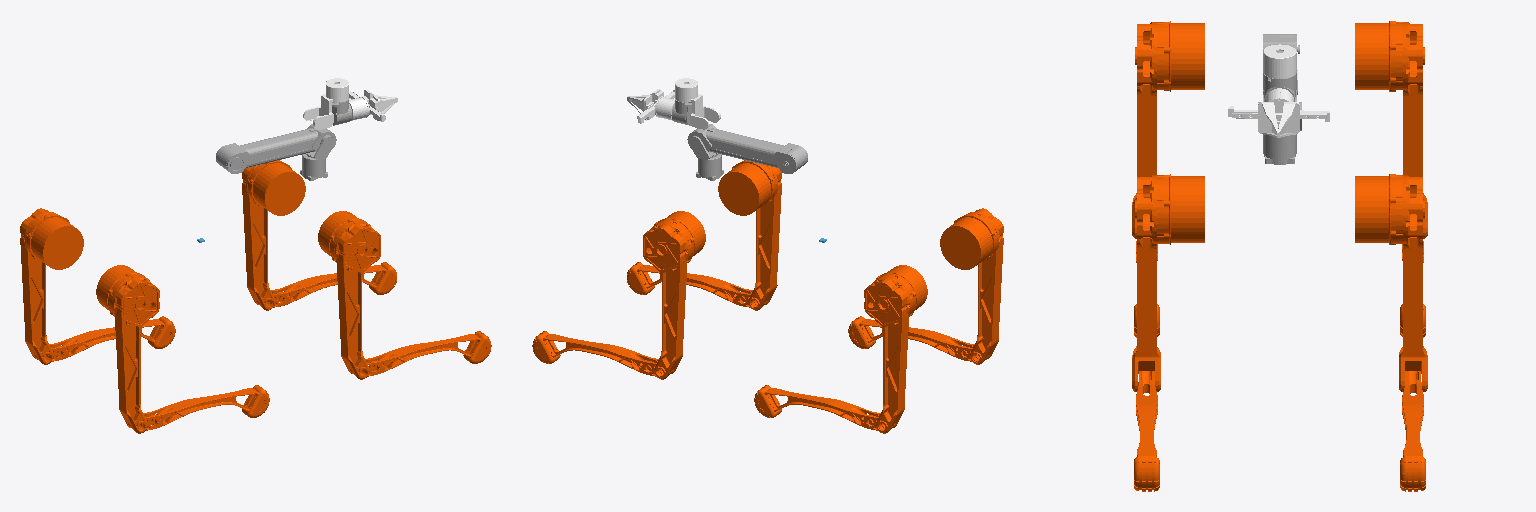
URDF robot description (robot):
<?xml version="1.0" ?>
<robot name="robot">
  <material name="black">
    <color rgba="0.0 0.0 0.0 1.0"/>
  </material>
  <material name="blue">
    <color rgba="0.0 0.0 0.8 1.0"/>
  </material>
  <material name="green">
    <color rgba="0.0 0.8 0.0 1.0"/>
  </material>
  <material name="grey">
    <color rgba="0.2 0.2 0.2 1.0"/>
  </material>
  <material name="silver">
    <color rgba="0.9137254901960784 0.9137254901960784 0.8470588235294118 1.0"/>
  </material>
  <material name="orange">
    <color rgba="1.0 0.4235294117647059 0.0392156862745098 1.0"/>
  </material>
  <material name="brown">
    <color rgba="0.8705882352941177 0.8117647058823529 0.7647058823529411 1.0"/>
  </material>
  <material name="red">
    <color rgba="0.8 0.0 0.0 1.0"/>
  </material>
  <material name="white">
    <color rgba="1.0 1.0 1.0 1.0"/>
  </material>
  <link name="base">
    <visual>
      <origin rpy="0 0 0" xyz="0 0 0"/>
      <geometry>
        <mesh filename="../meshes/trunk.dae" scale="1 1 1"/>
      </geometry>
    </visual>
    <collision>
      <origin rpy="0 0 0" xyz="0 0 0"/>
      <geometry>
        <box size="0.99 0.34 0.24"/>
      </geometry>
    </collision>
    <inertial>
      <origin rpy="0 0 0" xyz="0.0014923112 -0.0014397771 -0.0094584260"/>
      <mass value="41.377848"/>
      <inertia ixx="0.47630359" ixy="-3.9611174E-03" ixz="0.020116265" iyy="1.8915135" iyz="-4.4176612E-03" izz="2.1035448"/>
    </inertial>
  </link>
  
  <!-- Imu is fixed to the base link -->
  <joint name="imu_joint" type="fixed">
    <origin rpy="0. 0. 0." xyz="0. 0. 0."/>
    <parent link="base"/>
    <child link="imu"/>
  </joint>
  <!-- Imu link -->
  <link name="imu">
    <inertial>
      <mass value="0.1"/>
      <origin rpy="0 0 0" xyz="0 0 0"/>
      <inertia ixx="0.000001" ixy="0" ixz="0" iyy="0.000001" iyz="0" izz="0.000001"/>
    </inertial>
    <visual>
      <origin rpy="0 0 0" xyz="0 0 0"/>
      <geometry>
        <box size="0.015 0.015 0.004"/>
      </geometry>
    </visual>
    <material name="orange">
      <color rgba="255 108 10 255"/>
    </material>
  </link>
  <gazebo reference="imu">
    <material>Gazebo/Orange</material>
  </gazebo>
  <gazebo reference="imu_joint">
    <disableFixedJointLumping>true</disableFixedJointLumping>
  </gazebo>
  
  <link
    name="arm_link0">
    <inertial>
      <origin
        xyz="1.04193988601165E-17 -2.06800069864048E-18 0.0306919872517665"
        rpy="0 0 0" />
      <mass
        value="0.154950873811881" />
      <inertia
        ixx="7.6280725825903E-05"
        ixy="-2.8331857255032E-21"
        ixz="-9.60864892161926E-21"
        iyy="7.5743677536133E-05"
        iyz="-7.23203741807483E-21"
        izz="6.94178921980713E-05" />
    </inertial>
    <visual>
      <origin
        xyz="0 0 0"
        rpy="0 0 0" />
      <geometry>
        <mesh
          filename="../meshes/link0.dae" />
      </geometry>
      <material
        name="">
        <color
          rgba="0.752941176470588 0.752941176470588 0.752941176470588 1" />
      </material>
    </visual>
  </link>
  <joint
    name="joint0"
    type="fixed">
    <origin
      xyz="0.332 0. 0.105"
      rpy="0 0 1.57" />
    <parent
      link="base" />
    <child
      link="arm_link0" />
  </joint>
  <link
    name="arm_link1">
    <inertial>
      <origin
        xyz="-0.00243668436201439 -0.006191415441136 0.0184110269010454"
        rpy="0 0 0" />
      <mass
        value="0.0465087787338035" />
      <inertia
        ixx="1.38543050772712E-05"
        ixy="1.14690917508463E-07"
        ixz="-1.53505123825081E-07"
        iyy="1.40483464923309E-05"
        iyz="3.12756534836822E-06"
        izz="1.49283119185331E-05" />
    </inertial>
    <visual>
      <origin
        xyz="0 0 0"
        rpy="0 0 0" />
      <geometry>
        <mesh
          filename="../meshes/link1.dae" />
      </geometry>
      <material
        name="">
        <color
          rgba="0.752941176470588 0.752941176470588 0.752941176470588 1" />
      </material>
    </visual>
  </link>
  <joint
    name="arm_joint1"
    type="revolute">
    <origin
      xyz="0 0 0.0605000000000002"
      rpy="0 0 0" />
    <parent
      link="arm_link0" />
    <child
      link="arm_link1" />
    <axis
      xyz="0 0 1" />
    <limit
      lower="-3.14"
      upper="3.14"
      effort="100"
      velocity="100" />
  </joint>
  <link
    name="arm_link2">
    <inertial>
      <origin
        xyz="0.132663920183335 0.000103506259278768 -0.0010415189341013"
        rpy="0 0 0" />
      <mass
        value="0.822766943132133" />
      <inertia
        ixx="0.000269943143027721"
        ixy="-2.15689204151916E-05"
        ixz="-1.40510780649704E-07"
        iyy="0.00274078506399191"
        iyz="-3.25705162840667E-08"
        izz="0.00281320873116607" />
    </inertial>
    <visual>
      <origin
        xyz="0 0 0"
        rpy="0 0 0" />
      <geometry>
        <mesh
          filename="../meshes/link2.dae" />
      </geometry>
      <material
        name="">
        <color
          rgba="0.752941176470588 0.752941176470588 0.752941176470588 1" />
      </material>
    </visual>
  </link>
  <joint
    name="arm_joint2"
    type="revolute">
    <origin
      xyz="0.000749999999995356 -0.0200000000000009 0.0399999999999998"
      rpy="1.5707963267949 0 1.5707963267949" />
    <parent
      link="arm_link1" />
    <child
      link="arm_link2" />
    <axis
      xyz="0 0 -1" />
    <limit
      lower="-3.6"
      upper="0.28"
      effort="100"
      velocity="100" />
  </joint>
  <link
    name="arm_link3">
    <inertial>
      <origin
        xyz="0.14108 -0.053069 -0.0012758"
        rpy="0 0 0" />
      <mass
        value="0.451084119008658" />
      <inertia
        ixx="0.000146463690877388"
        ixy="0.000108278431799258"
        ixz="-1.14918312139153E-05"
        iyy="0.00137487396946499"
        iyz="5.3153018327198E-06"
        izz="0.0014340770881379" />
    </inertial>
    <visual>
      <origin
        xyz="0 0 0"
        rpy="0 0 0" />
      <geometry>
        <mesh
          filename="../meshes/link3.dae" />
      </geometry>
      <material
        name="">
        <color
          rgba="0.752941176470588 0.752941176470588 0.752941176470588 1" />
      </material>
    </visual>
  </link>
  <joint
    name="arm_joint3"
    type="revolute">
    <origin
      xyz="0.264 0 0"
      rpy="0 0 3.1416" />
    <parent
      link="arm_link2" />
    <child
      link="arm_link3" />
    <axis
      xyz="0 0 -1" />
    <limit
      lower="0"
      upper="3.14"
      effort="100"
      velocity="100" />
  </joint>
  <link
    name="arm_link4">
    <inertial>
      <origin
        xyz="0.033502 -0.027529 -0.0063895"
        rpy="0 0 0" />
      <mass
        value="0.042855" />
      <inertia
        ixx="2.3925E-05"
        ixy="3.4346E-06"
        ixz="-4.2531E-06"
        iyy="2.5668E-05"
        iyz="2.1761E-06"
        izz="2.4119E-05" />
    </inertial>
    <visual>
      <origin
        xyz="0 0 0"
        rpy="0 0 0" />
      <geometry>
        <mesh
          filename="../meshes/link4.dae" />
      </geometry>
      <material
        name="">
        <color
          rgba="1 1 1 1" />
      </material>
    </visual>
  </link>
  <joint
    name="arm_joint4"
    type="revolute">
    <origin
      xyz="0.245 -0.056 -0.000475"
      rpy="0 0 0" />
    <parent
      link="arm_link3" />
    <child
      link="arm_link4" />
    <axis
      xyz="0 0 -1" />
    <limit
      lower="-1.571"
      upper="1.571"
      effort="100"
      velocity="100" />
  </joint>
  <link
    name="arm_link5">
    <inertial>
      <origin
        xyz="7.39496806869756E-05 0.00390756676405528 -0.0521915532008786"
        rpy="0 0 0" />
      <mass
        value="0.208851517655746" />
      <inertia
        ixx="6.88759462513615E-05"
        ixy="1.74076185008027E-07"
        ixz="9.47036416876195E-09"
        iyy="7.82640881069056E-05"
        iyz="-8.13674688946157E-07"
        izz="7.80502525587007E-05" />
    </inertial>
    <visual>
      <origin
        xyz="0 0 0"
        rpy="0 0 0" />
      <geometry>
        <mesh
          filename="../meshes/link5.dae" />
      </geometry>
      <material
        name="">
        <color
          rgba="0.752941176470588 0.752941176470588 0.752941176470588 1" />
      </material>
    </visual>
  </link>
  <joint
    name="arm_joint5"
    type="revolute">
    <origin
      xyz="0.06675 -0.084 -0.000275"
      rpy="1.5708 1.5708 0" />
    <parent
      link="arm_link4" />
    <child
      link="arm_link5" />
    <axis
      xyz="0 0 1" />
    <limit
      lower="-1.571"
      upper="1.571"
      effort="100"
      velocity="100" />
  </joint>
  <link
    name="arm_link6">
    <inertial>
      <origin
        xyz="0.00049313 9.848E-05 0.031695"
        rpy="0 0 0" />
      <mass
        value="0.123916977852968" />
      <inertia
        ixx="2.50413167035512E-05"
        ixy="9.83170018920875E-07"
        ixz="1.40401305267416E-06"
        iyy="0.000101574358657965"
        iyz="-1.83024792957642E-08"
        izz="0.000113465016821662" />
    </inertial>
    <visual>
      <origin
        xyz="0 0 0"
        rpy="0 0 0" />
      <geometry>
        <mesh
          filename="../meshes/link6.dae" />
      </geometry>
      <material
        name="">
        <color
          rgba="1 1 1 1" />
      </material>
    </visual>
  </link>
  <joint
    name="arm_joint6"
    type="revolute">
    <origin
      xyz="0.00046414 0.028539 -0.082947"
      rpy="-1.5708 0 0" />
    <parent
      link="arm_link5" />
    <child
      link="arm_link6" />
    <axis
      xyz="-0.015856 0 -0.99987" />
    <limit
      lower="-3.14"
      upper="3.14"
      effort="100"
      velocity="100" />
  </joint>
  <link
    name="gripper1">
    <inertial>
      <origin
        xyz="-0.010949 -0.007984 -0.0053619"
        rpy="0 0 0" />
      <mass
        value="0.027146" />
      <inertia
        ixx="8.9441E-06"
        ixy="6.8743E-07"
        ixz="-3.1012E-06"
        iyy="1.1334E-05"
        iyz="1.6273E-07"
        izz="1.5094E-05" />
    </inertial>
    <visual>
      <origin
        xyz="0 0 0"
        rpy="0 0 0" />
      <geometry>
        <mesh
          filename="../meshes/gripper1.dae" />
      </geometry>
      <material
        name="">
        <color
          rgba="1 1 1 1" />
      </material>
    </visual>
  </link>
  <joint
    name="arm_joint7"
    type="prismatic">
    <origin
      xyz="-0.0218441952806044 -0.00464472233071411 0.070282758534191"
      rpy="0.00229467780858847 1.55494011731642 -3.14159265358975" />
    <parent
      link="arm_link6" />
    <child
      link="gripper1" />
    <axis
      xyz="0 0 1" />
    <limit
      lower="0"
      upper="0.04764"
      effort="100"
      velocity="10" />
  </joint>
  <link
    name="gripper2">
    <inertial>
      <origin
        xyz="-0.011249 0.0029863 -0.0053619"
        rpy="0 0 0" />
      <mass
        value="0.027146" />
      <inertia
        ixx="9.1856E-06"
        ixy="1.6166E-06"
        ixz="-3.1012E-06"
        iyy="1.1334E-05"
        iyz="6.1248E-07"
        izz="1.5336E-05" />
    </inertial>
    <visual>
      <origin
        xyz="0 0 0"
        rpy="0 0 0" />
      <geometry>
        <mesh
          filename="../meshes/gripper2.dae" />
      </geometry>
      <material
        name="">
        <color
          rgba="1 1 1 1" />
      </material>
    </visual>
  </link>
  <joint
    name="arm_joint8"
    type="prismatic">
    <origin
      xyz="0.0240124026414632 -0.00444997198895219 0.0692555480519135"
      rpy="-3.1392979757812 1.55494011731642 -3.14159265358975" />
    <parent
      link="arm_link6" />
    <child
      link="gripper2" />
    <axis
      xyz="0 0 -1" />
    <limit
      lower="-0.04764"
      upper="0"
      effort="100"
      velocity="10" />
  </joint>

  <joint name="FR_hip_joint" type="revolute">
    <origin rpy="0 0 0" xyz="0.325 -0.1125 0"/>
    <parent link="base"/>
    <child link="FR_hip"/>
    <axis xyz="1 0 0"/>
    <dynamics damping="0" friction="0"/>
    <limit effort="160" lower="-0.87" upper="0.69" velocity="19.3"/>
  </joint>
  <link name="FR_hip">
    <visual>
      <origin rpy="3.141592653589793 0 0" xyz="0 0 0"/>
      <geometry>
        <mesh filename="../meshes/hip.dae" scale="1 1 1"/>
      </geometry>
      <material name="orange"/>
    </visual>
    <inertial>
      <origin rpy="0 0 0" xyz="-0.0011794 0.02693 -5.8859E-07"/>
      <mass value="2.7264"/>
      <inertia ixx="0.0043529" ixy="7.7592E-06" ixz="-9.9737E-09" iyy="0.0056391" iyz="1.7393E-08" izz="0.0047569"/>
    </inertial>
  </link>
  <joint name="FR_thigh_joint" type="revolute">
    <origin rpy="0 0 0" xyz="0 -0.126375 0"/>
    <parent link="FR_hip"/>
    <child link="FR_thigh"/>
    <axis xyz="0 1 0"/>
    <dynamics damping="0" friction="0"/>
    <limit effort="180" lower="-0.78" upper="3.0" velocity="21.6"/>
  </joint>
  <link name="FR_thigh">
    <visual>
      <origin rpy="0 0 0" xyz="0 0 0"/>
      <geometry>
        <mesh filename="../meshes/thigh_mirror.dae" scale="1 1 1"/>
      </geometry>
      <material name="orange"/>
    </visual>
    <inertial>
      <origin rpy="0 0 0" xyz="0.008023 0.0407086 -0.0477057"/>
      <mass value="4.5843711"/>
      <inertia ixx="0.0568903" ixy="-1.3859024E-03" ixz="-0.0040888" iyy="0.055707534" iyz="-0.0090795" izz="0.0119193"/>
    </inertial>
  </link>
  <joint name="FR_calf_joint" type="revolute">
    <origin rpy="0 0 0" xyz="0 0 -0.34"/>
    <parent link="FR_thigh"/>
    <child link="FR_calf"/>
    <axis xyz="0 1 0"/>
    <dynamics damping="0" friction="0"/>
    <limit effort="452" lower="-2.6" upper="-0.45" velocity="18.8"/>
  </joint>
  <link name="FR_calf">
    <visual>
      <origin rpy="0 0 0" xyz="0 0 0"/>
      <geometry>
        <mesh filename="../meshes/calf.dae" scale="1 1 1"/>
      </geometry>
      <material name="orange"/>
    </visual>
    <collision>
      <origin rpy="0 1.5707963267948966 0" xyz="0.0 0 -0.17"/>
      <geometry>
        <box size="0.25 0.04 0.0495"/>
      </geometry>
    </collision>
    <inertial>
      <origin rpy="0 0 0" xyz="-4.1136934E-03 -2.2641006E-06 -0.18227639"/>
      <mass value="0.82150729"/>
      <inertia ixx="0.017546212" ixy="-2.5076089E-09" ixz="-3.8977294E-05" iyy="0.017775449" iyz="-3.0610477E-07" izz="4.2961251E-04"/>
    </inertial>
  </link>
  <joint name="FR_foot_fixed" type="fixed" dont_collapse="true">
    <origin rpy="0 0 0" xyz="0 0 -0.34"/>
    <parent link="FR_calf"/>
    <child link="FR_FOOT"/>
  </joint>
  <link name="FR_FOOT">
    <collision>
      <origin rpy="0 0 0" xyz="0 0 0"/>
      <geometry>
        <sphere radius="0.045"/>
      </geometry>
    </collision>
    <inertial>
      <mass value="0.12"/>
      <inertia ixx="1.000e-09" ixy="0.0" ixz="0.0" iyy="1.000e-09" iyz="0.0" izz="1.000e-09"/>
    </inertial>
  </link>
  <joint name="FL_hip_joint" type="revolute">
    <origin rpy="0 0 0" xyz="0.325 0.1125 0"/>
    <parent link="base"/>
    <child link="FL_hip"/>
    <axis xyz="1 0 0"/>
    <dynamics damping="0" friction="0"/>
    <limit effort="160" lower="-0.69" upper="0.87" velocity="19.3"/>
  </joint>
  <link name="FL_hip">
    <visual>
      <origin rpy="0 0 0" xyz="0 0 0"/>
      <geometry>
        <mesh filename="../meshes/hip.dae" scale="1 1 1"/>
      </geometry>
      <material name="orange"/>
    </visual>
    <inertial>
      <origin rpy="0 0 0" xyz="-0.0011794 -0.02693 5.8859E-07"/>
      <mass value="2.7264"/>
      <inertia ixx="0.0043529" ixy="-7.7592E-06" ixz="9.9737E-09" iyy="0.0056391" iyz="1.7393E-08" izz="0.0047569"/>
    </inertial>
  </link>
  <joint name="FL_thigh_joint" type="revolute">
    <origin rpy="0 0 0" xyz="0 0.126375 0"/>
    <parent link="FL_hip"/>
    <child link="FL_thigh"/>
    <axis xyz="0 1 0"/>
    <dynamics damping="0" friction="0"/>
    <limit effort="180" lower="-0.78" upper="3.0" velocity="21.6"/>
  </joint>
  <link name="FL_thigh">
    <visual>
      <origin rpy="0 0 0" xyz="0 0 0"/>
      <geometry>
        <mesh filename="../meshes/thigh.dae" scale="1 1 1"/>
      </geometry>
      <material name="orange"/>
    </visual>
    <inertial>
      <origin rpy="0 0 0" xyz="0.008023 -0.0407086 -0.0477057"/>
      <mass value="4.5843711"/>
      <inertia ixx="0.0568903" ixy="1.3859024E-03" ixz="-0.0040888" iyy="0.055707534" iyz="0.0090795" izz="0.0119193"/>
    </inertial>
  </link>
  <joint name="FL_calf_joint" type="revolute">
    <origin rpy="0 0 0" xyz="0 0 -0.34"/>
    <parent link="FL_thigh"/>
    <child link="FL_calf"/>
    <axis xyz="0 1 0"/>
    <dynamics damping="0" friction="0"/>
    <limit effort="452" lower="-2.6" upper="-0.45" velocity="18.8"/>
  </joint>
  <link name="FL_calf">
    <visual>
      <origin rpy="0 0 0" xyz="0 0 0"/>
      <geometry>
        <mesh filename="../meshes/calf.dae" scale="1 1 1"/>
      </geometry>
      <material name="orange"/>
    </visual>
    <collision>
      <origin rpy="0 1.5707963267948966 0" xyz="0.0 0 -0.17"/>
      <geometry>
        <box size="0.25 0.04 0.0495"/>
      </geometry>
    </collision>
    <inertial>
      <origin rpy="0 0 0" xyz="-4.1136934E-03 2.2641006E-06 -0.18227639"/>
      <mass value="0.82150729"/>
      <inertia ixx="0.017546212" ixy="-2.5076089E-09" ixz="3.8977294E-05" iyy="0.017775449" iyz="3.0610477E-07" izz="4.2961251E-04"/>
    </inertial>
  </link>
  <joint name="FL_foot_fixed" type="fixed" dont_collapse="true">
    <origin rpy="0 0 0" xyz="0 0 -0.34"/>
    <parent link="FL_calf"/>
    <child link="FL_FOOT"/>
  </joint>
  <link name="FL_FOOT">
    <collision>
      <origin rpy="0 0 0" xyz="0 0 0"/>
      <geometry>
        <sphere radius="0.045"/>
      </geometry>
    </collision>
    <inertial>
      <mass value="0.12"/>
      <inertia ixx="1.000e-09" ixy="0.0" ixz="0.0" iyy="1.000e-09" iyz="0.0" izz="1.000e-09"/>
    </inertial>
  </link>
  <joint name="RR_hip_joint" type="revolute">
    <origin rpy="0 0 0" xyz="-0.325 -0.1125 0"/>
    <parent link="base"/>
    <child link="RR_hip"/>
    <axis xyz="1 0 0"/>
    <dynamics damping="0" friction="0"/>
    <limit effort="160" lower="-0.87" upper="0.69" velocity="19.3"/>
  </joint>
  <link name="RR_hip">
    <visual>
      <origin rpy="3.141592653589793 3.141592653589793 0" xyz="0 0 0"/>
      <geometry>
        <mesh filename="../meshes/hip.dae" scale="1 1 1"/>
      </geometry>
      <material name="orange"/>
    </visual>
    <inertial>
      <origin rpy="0 0 0" xyz="0.0011794 0.02693 5.8859E-07"/>
      <mass value="2.7264"/>
      <inertia ixx="0.0043529" ixy="-7.7592E-06" ixz="-9.9737E-09" iyy="0.0056391" iyz="-1.7393E-08" izz="0.0047569"/>
    </inertial>
  </link>
  <joint name="RR_thigh_joint" type="revolute">
    <origin rpy="0 0 0" xyz="0 -0.126375 0"/>
    <parent link="RR_hip"/>
    <child link="RR_thigh"/>
    <axis xyz="0 1 0"/>
    <dynamics damping="0" friction="0"/>
    <limit effort="180" lower="-0.78" upper="2.1" velocity="21.6"/>
  </joint>
  <link name="RR_thigh">
    <visual>
      <origin rpy="0 0 0" xyz="0 0 0"/>
      <geometry>
        <mesh filename="../meshes/thigh_mirror.dae" scale="1 1 1"/>
      </geometry>
      <material name="orange"/>
    </visual>
    <inertial>
      <origin rpy="0 0 0" xyz="0.008023 0.0407086 -0.0477057"/>
      <mass value="4.5843711"/>
      <inertia ixx="0.0568903" ixy="-1.3859024E-03" ixz="-0.0040888" iyy="0.055707534" iyz="-0.0090795" izz="0.0119193"/>
    </inertial>
  </link>
  <joint name="RR_calf_joint" type="revolute">
    <origin rpy="0 0 0" xyz="0 0 -0.34"/>
    <parent link="RR_thigh"/>
    <child link="RR_calf"/>
    <axis xyz="0 1 0"/>
    <dynamics damping="0" friction="0"/>
    <limit effort="452" lower="-2.6" upper="-0.45" velocity="18.8"/>
  </joint>
  <link name="RR_calf">
    <visual>
      <origin rpy="0 0 0" xyz="0 0 0"/>
      <geometry>
        <mesh filename="../meshes/calf.dae" scale="1 1 1"/>
      </geometry>
      <material name="orange"/>
    </visual>
    <collision>
      <origin rpy="0 1.5707963267948966 0" xyz="0.0 0 -0.17"/>
      <geometry>
        <box size="0.25 0.04 0.0495"/>
      </geometry>
    </collision>
    <inertial>
      <origin rpy="0 0 0" xyz="-4.1136934E-03 -2.2641006E-06 -0.18227639"/>
      <mass value="0.82150729"/>
      <inertia ixx="0.017546212" ixy="-2.5076089E-09" ixz="-3.8977294E-05" iyy="0.017775449" iyz="-3.0610477E-07" izz="4.2961251E-04"/>
    </inertial>
  </link>
  <joint name="RR_foot_fixed" type="fixed" dont_collapse="true">
    <origin rpy="0 0 0" xyz="0 0 -0.34"/>
    <parent link="RR_calf"/>
    <child link="RR_FOOT"/>
  </joint>
  <link name="RR_FOOT">
    <collision>
      <origin rpy="0 0 0" xyz="0 0 0"/>
      <geometry>
        <sphere radius="0.045"/>
      </geometry>
    </collision>
    <inertial>
      <mass value="0.12"/>
      <inertia ixx="1.000e-09" ixy="0.0" ixz="0.0" iyy="1.000e-09" iyz="0.0" izz="1.000e-09"/>
    </inertial>
  </link>
  <joint name="RL_hip_joint" type="revolute">
    <origin rpy="0 0 0" xyz="-0.325 0.1125 0"/>
    <parent link="base"/>
    <child link="RL_hip"/>
    <axis xyz="1 0 0"/>
    <dynamics damping="0" friction="0"/>
    <limit effort="160" lower="-0.69" upper="0.87" velocity="19.3"/>
  </joint>
  <link name="RL_hip">
    <visual>
      <origin rpy="0 3.141592653589793 0" xyz="0 0 0"/>
      <geometry>
        <mesh filename="../meshes/hip.dae" scale="1 1 1"/>
      </geometry>
      <material name="orange"/>
    </visual>
    <inertial>
      <origin rpy="0 0 0" xyz="0.0011794 -0.02693 -5.8859E-07"/>
      <mass value="2.7264"/>
      <inertia ixx="0.0043529" ixy="7.7592E-06" ixz="9.9737E-09" iyy="0.0056391" iyz="-1.7393E-08" izz="0.0047569"/>
    </inertial>
  </link>
  <joint name="RL_thigh_joint" type="revolute">
    <origin rpy="0 0 0" xyz="0 0.126375 0"/>
    <parent link="RL_hip"/>
    <child link="RL_thigh"/>
    <axis xyz="0 1 0"/>
    <dynamics damping="0" friction="0"/>
    <limit effort="180" lower="-0.78" upper="2.1" velocity="21.6"/>
  </joint>
  <link name="RL_thigh">
    <visual>
      <origin rpy="0 0 0" xyz="0 0 0"/>
      <geometry>
        <mesh filename="../meshes/thigh.dae" scale="1 1 1"/>
      </geometry>
      <material name="orange"/>
    </visual>
    <inertial>
      <origin rpy="0 0 0" xyz="0.008023 -0.0407086 -0.0477057"/>
      <mass value="4.5843711"/>
      <inertia ixx="0.0568903" ixy="1.3859024E-03" ixz="-0.0040888" iyy="0.055707534" iyz="0.0090795" izz="0.0119193"/>
    </inertial>
  </link>
  <joint name="RL_calf_joint" type="revolute">
    <origin rpy="0 0 0" xyz="0 0 -0.34"/>
    <parent link="RL_thigh"/>
    <child link="RL_calf"/>
    <axis xyz="0 1 0"/>
    <dynamics damping="0" friction="0"/>
    <limit effort="452" lower="-2.6" upper="-0.45" velocity="18.8"/>
  </joint>
  <link name="RL_calf">
    <visual>
      <origin rpy="0 0 0" xyz="0 0 0"/>
      <geometry>
        <mesh filename="../meshes/calf.dae" scale="1 1 1"/>
      </geometry>
      <material name="orange"/>
    </visual>
    <collision>
      <origin rpy="0 1.5707963267948966 0" xyz="0.0 0 -0.17"/>
      <geometry>
        <box size="0.25 0.04 0.0495"/>
      </geometry>
    </collision>
    <inertial>
      <origin rpy="0 0 0" xyz="-4.1136934E-03 2.2641006E-06 -0.18227639"/>
      <mass value="0.82150729"/>
      <inertia ixx="0.017546212" ixy="-2.5076089E-09" ixz="3.8977294E-05" iyy="0.017775449" iyz="3.0610477E-07" izz="4.2961251E-04"/>
    </inertial>
  </link>
  <joint name="RL_foot_fixed" type="fixed" dont_collapse="true">
    <origin rpy="0 0 0" xyz="0 0 -0.34"/>
    <parent link="RL_calf"/>
    <child link="RL_FOOT"/>
  </joint>
  <link name="RL_FOOT">
    <collision>
      <origin rpy="0 0 0" xyz="0 0 0"/>
      <geometry>
        <sphere radius="0.045"/>
      </geometry>
    </collision>
    <inertial>
      <mass value="0.12"/>
      <inertia ixx="1.000e-09" ixy="0.0" ixz="0.0" iyy="1.000e-09" iyz="0.0" izz="1.000e-09"/>
    </inertial>
  </link>
</robot>

--- Facts derived from the render (not from the file) ---
3 views of the same robot in one strip: view 1: azimuth 30°, elevation 25°; view 2: azimuth 150°, elevation 25°; view 3: azimuth 270°, elevation 25° (orthographic).
Model robot with 27 links and 26 joints (18 revolute, 2 prismatic, 6 fixed), rooted at base, posed joints at zero except 4 at the middle of their limits (FR_calf_joint = -1.52, FL_calf_joint = -1.52, RR_calf_joint = -1.52, RL_calf_joint = -1.52).
Links seen in each view (by area): view 1: RR_thigh, FR_thigh, RL_thigh, FL_thigh, arm_link2, FR_calf, RR_calf, FL_calf, RL_calf, arm_link4, arm_link6, arm_link0; view 2: RL_thigh, FL_thigh, RR_thigh, FR_thigh, arm_link2, RL_calf, FL_calf, FR_calf, RR_calf, arm_link4, arm_link6, arm_link0; view 3: FL_thigh, FR_thigh, RL_thigh, RR_thigh, FR_calf, FL_calf, arm_link4, arm_link6, arm_link0, gripper1, gripper2.
Link boxes in pixels (x1,y1,x2,y2): RR_thigh: (96,265,159,433); FR_thigh: (318,211,380,379); RL_thigh: (20,208,83,364); FL_thigh: (242,160,305,310); arm_link2: (216,124,336,173); FR_calf: (350,331,491,376); RR_calf: (128,385,269,430); FL_calf: (256,262,396,307); RL_calf: (34,316,175,361); arm_link4: (303,78,348,129); arm_link6: (349,91,385,121); arm_link0: (300,153,327,180); RL_thigh: (864,265,927,433); FL_thigh: (643,211,705,379); RR_thigh: (940,208,1003,364); FR_thigh: (718,160,781,310); arm_link2: (687,124,807,173); RL_calf: (754,385,895,430); FL_calf: (532,331,673,376); FR_calf: (627,262,767,307); RR_calf: (848,316,989,361); arm_link4: (675,78,720,129); arm_link6: (637,89,674,123); arm_link0: (696,153,723,180); FL_thigh: (1355,174,1427,391); FR_thigh: (1132,174,1204,391); RL_thigh: (1355,21,1427,238); RR_thigh: (1132,21,1204,238); FR_calf: (1134,371,1159,491); FL_calf: (1400,371,1425,491); arm_link4: (1263,44,1297,95); arm_link6: (1228,88,1329,126); arm_link0: (1263,134,1296,164); gripper1: (1278,102,1299,137); gripper2: (1258,102,1277,137).
Size in the robot's own frame: 1.09 by 0.5297 by 0.744 metres.
16 mesh visuals loaded from 14 distinct referenced files (11 Collada DAE); not drawn: 6 (reference not matched to a file when rendering).